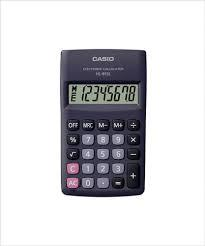Calculator: (54, 44, 149, 202)
